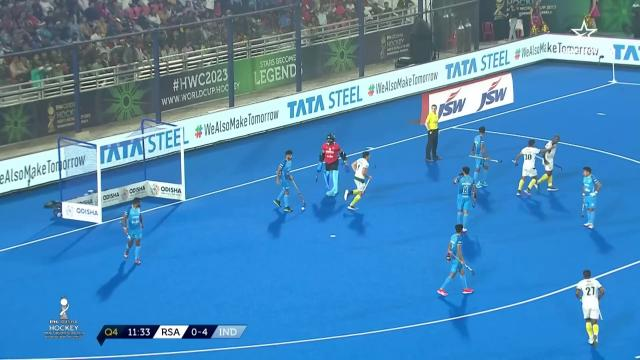ball: (300, 205, 305, 211)
